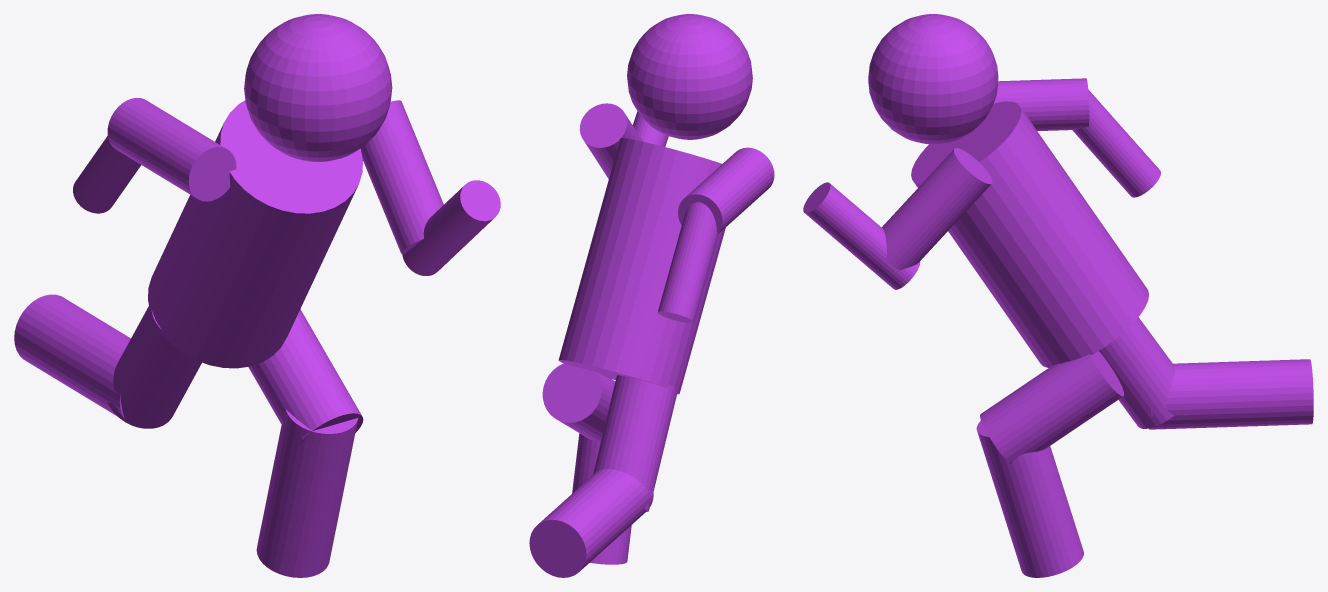
The model's file is runningMan.glb.
3 renders of one model, left to right at view 1: azimuth 30°, elevation 25°; view 2: azimuth 150°, elevation 25°; view 3: azimuth 270°, elevation 25°, orthographic. The views are drawn at different scales.
Visible parts, largest first — view 1: Cylinder, Sphere, Cylinder.008, Cylinder.006, Cylinder.001, Cylinder.007, Cylinder.003, Cylinder.005, Cylinder.004, Cylinder.002; view 2: Cylinder, Sphere, Cylinder.006, Cylinder.005, Cylinder.002, Cylinder.001, Cylinder.007, Cylinder.003, Cylinder.008, Cylinder.004; view 3: Cylinder, Sphere, Cylinder.006, Cylinder.007, Cylinder.008, Cylinder.003, Cylinder.005, Cylinder.004, Cylinder.001, Cylinder.002.
Boxes of the visible parts, <box> form: Cylinder: <box>148,100,362,368</box>; Sphere: <box>244,14,392,161</box>; Cylinder.008: <box>256,409,358,577</box>; Cylinder.006: <box>14,294,130,418</box>; Cylinder.001: <box>107,97,236,201</box>; Cylinder.007: <box>248,309,363,445</box>; Cylinder.003: <box>360,100,443,254</box>; Cylinder.005: <box>107,306,201,428</box>; Cylinder.004: <box>402,180,500,275</box>; Cylinder.002: <box>73,136,140,213</box>; Cylinder: <box>558,138,725,394</box>; Sphere: <box>627,14,752,139</box>; Cylinder.006: <box>529,469,653,577</box>; Cylinder.005: <box>593,375,677,511</box>; Cylinder.002: <box>657,202,718,323</box>; Cylinder.001: <box>678,147,774,234</box>; Cylinder.007: <box>542,363,615,441</box>; Cylinder.003: <box>579,103,642,178</box>; Cylinder.008: <box>572,433,631,564</box>; Cylinder.004: <box>632,111,668,146</box>; Cylinder: <box>911,101,1148,367</box>; Sphere: <box>868,14,998,144</box>; Cylinder.006: <box>1149,359,1313,429</box>; Cylinder.007: <box>980,351,1124,463</box>; Cylinder.008: <box>976,420,1083,577</box>; Cylinder.003: <box>882,148,992,270</box>; Cylinder.005: <box>1099,317,1174,428</box>; Cylinder.004: <box>803,182,920,289</box>; Cylinder.001: <box>994,78,1089,130</box>; Cylinder.002: <box>1072,89,1160,197</box>.
Bounding box in the file's own units: 3.74 × 8.97 × 7.82.
